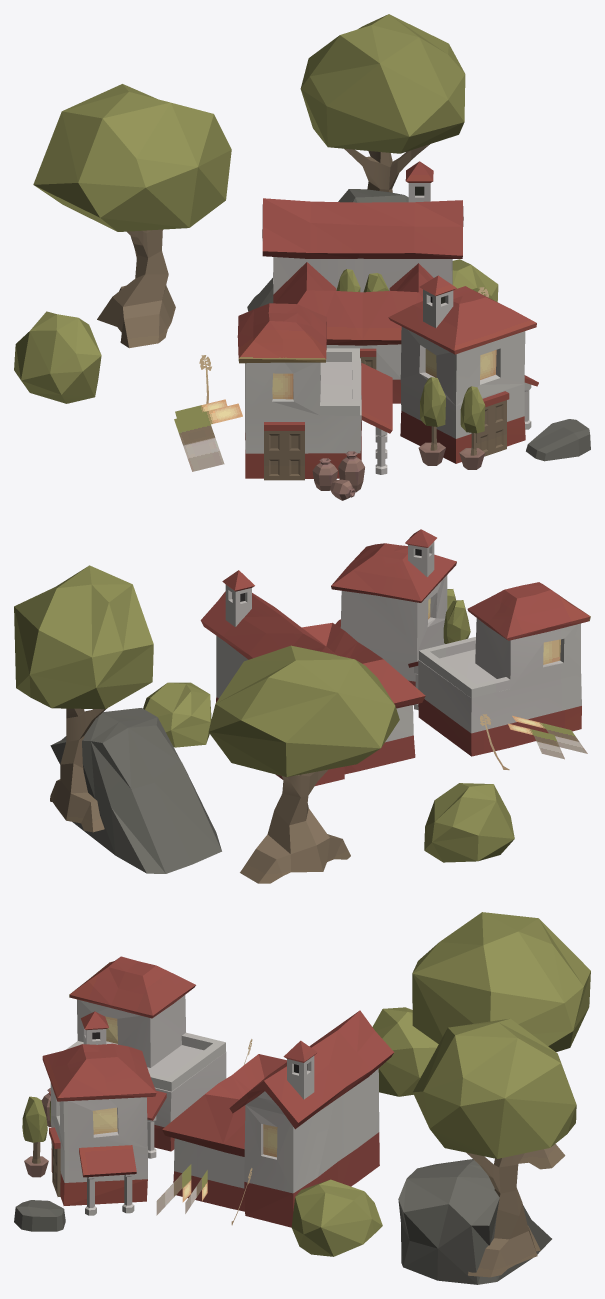
File: townPlains2.fbx
3 renders of one model, top to bottom at view 1: azimuth 30°, elevation 25°; view 2: azimuth 150°, elevation 25°; view 3: azimuth 270°, elevation 25°, orthographic. The views are drawn at different scales.
Parts seen in each view (by area): view 1: townPlains2; view 2: townPlains2; view 3: townPlains2.
Boxes of the visible parts, x1,y1,x2,y2 form: townPlains2: (14, 14, 590, 500); townPlains2: (14, 529, 590, 883); townPlains2: (14, 912, 590, 1284).
Bounding box in the file's own units: 6.16 × 3.31 × 6.67.
